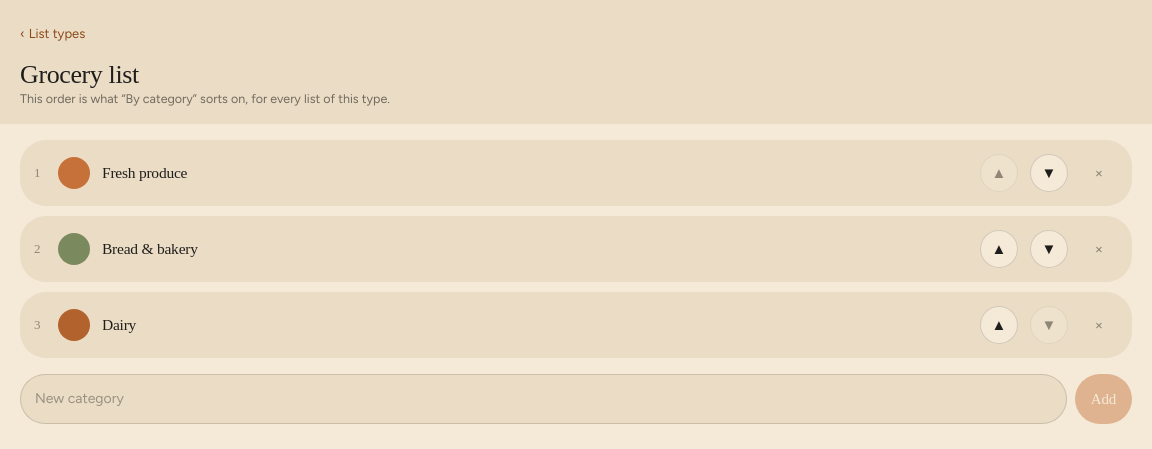
Test case: TypeCategoriesScreen › abandons the edit on Escape without sending anything
Click the button with aria-label "Rename Dairy" at (119, 325), box [102,310,968,342]
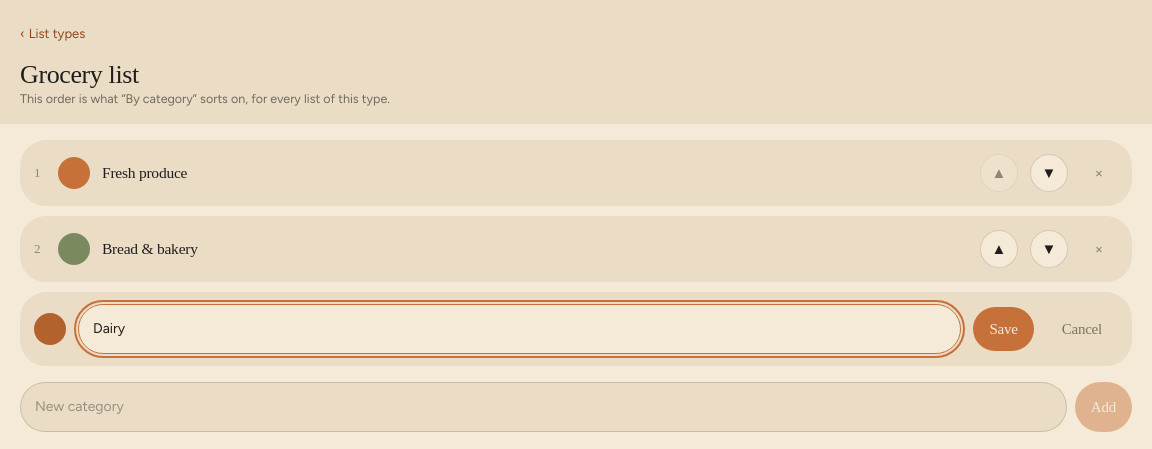
Type "nonsense" into the field named "Rename Dairy" at (520, 330), box [78,304,961,354]
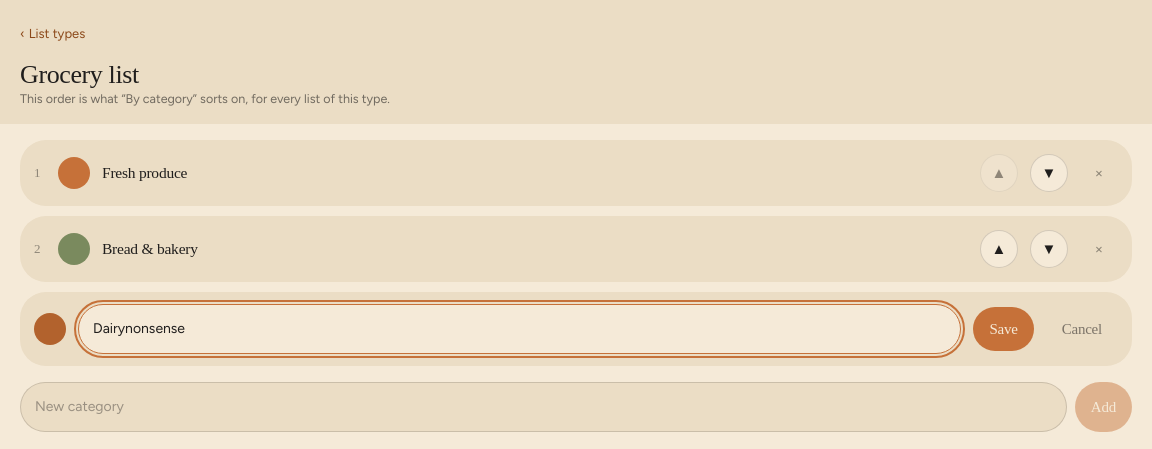
Press Escape
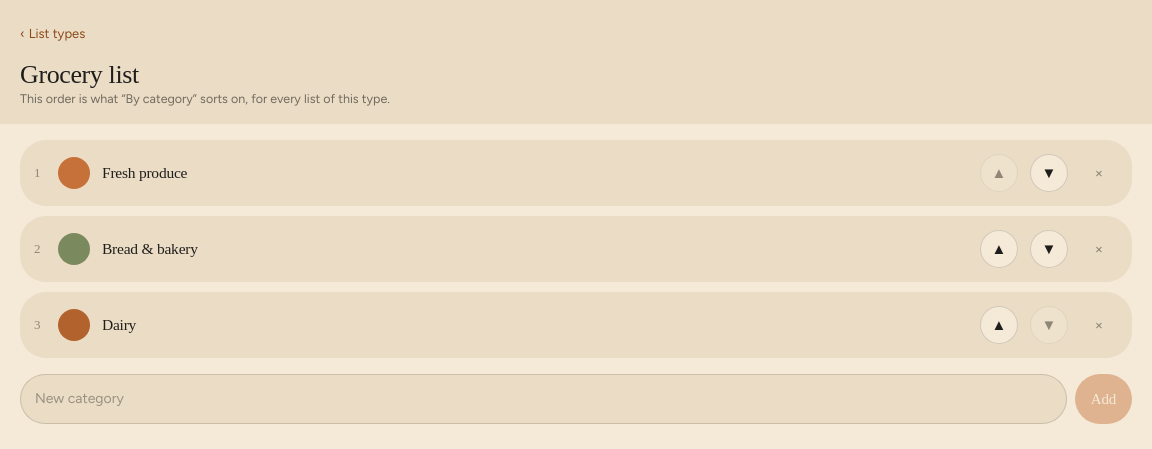
Expected: the button "Dairy" is shown, [102,310,968,342]
